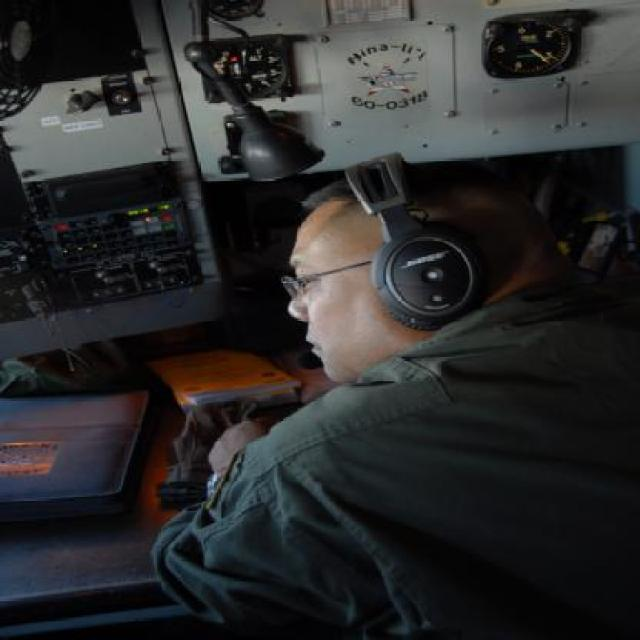earphone: (335, 135, 482, 333)
